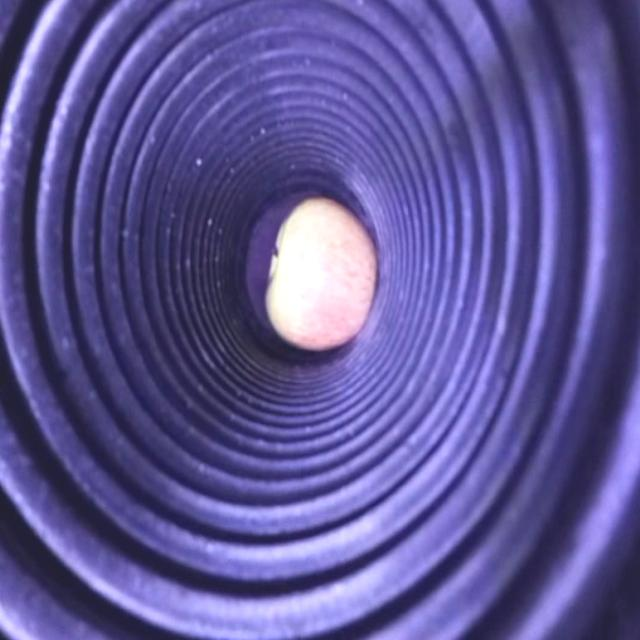obstacles: (264, 197, 377, 354)
